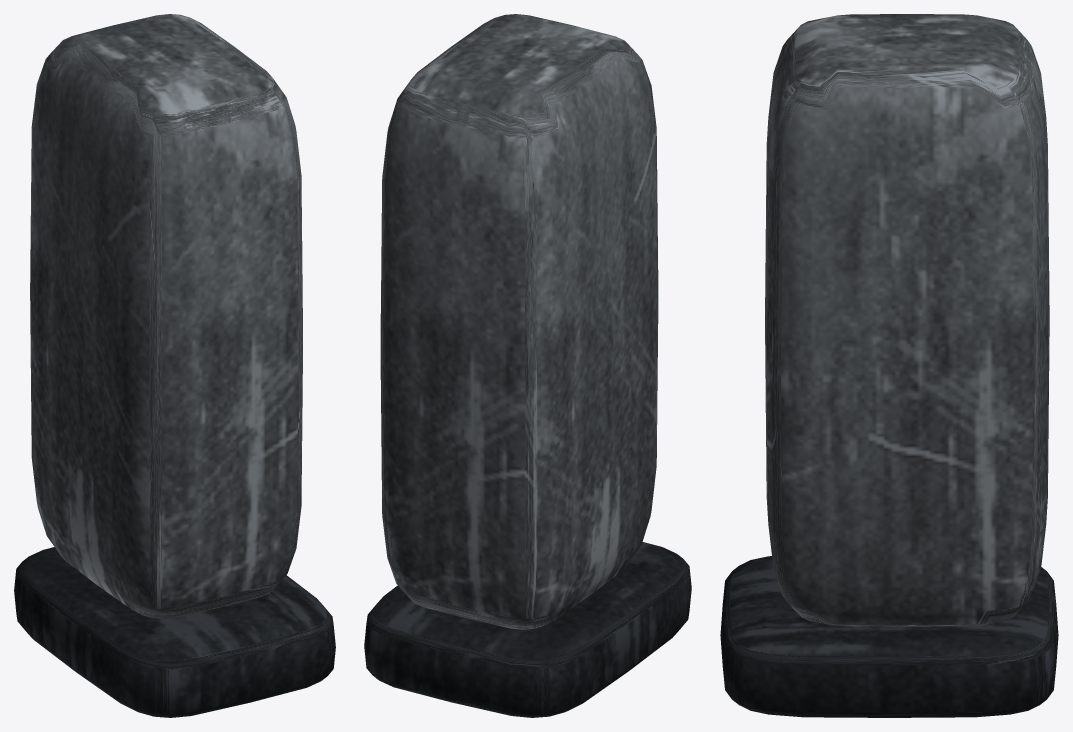
Rendered from sp2_cell.glb.
The picture shows the model from 3 angles, left to right: view 1: azimuth 30°, elevation 25°; view 2: azimuth 150°, elevation 25°; view 3: azimuth 270°, elevation 25°; orthographic projection. The views are drawn at different scales.
Parts seen in each view (by area): view 1: sp2_cell; view 2: sp2_cell; view 3: sp2_cell.
Part boxes in pixels (x1,y1,x2,y2): sp2_cell: (14,14,335,717); sp2_cell: (364,14,691,717); sp2_cell: (720,14,1058,717).
Size of the model in its own units: 0.029 by 0.079 by 0.038.
1 material, 1 textured.
